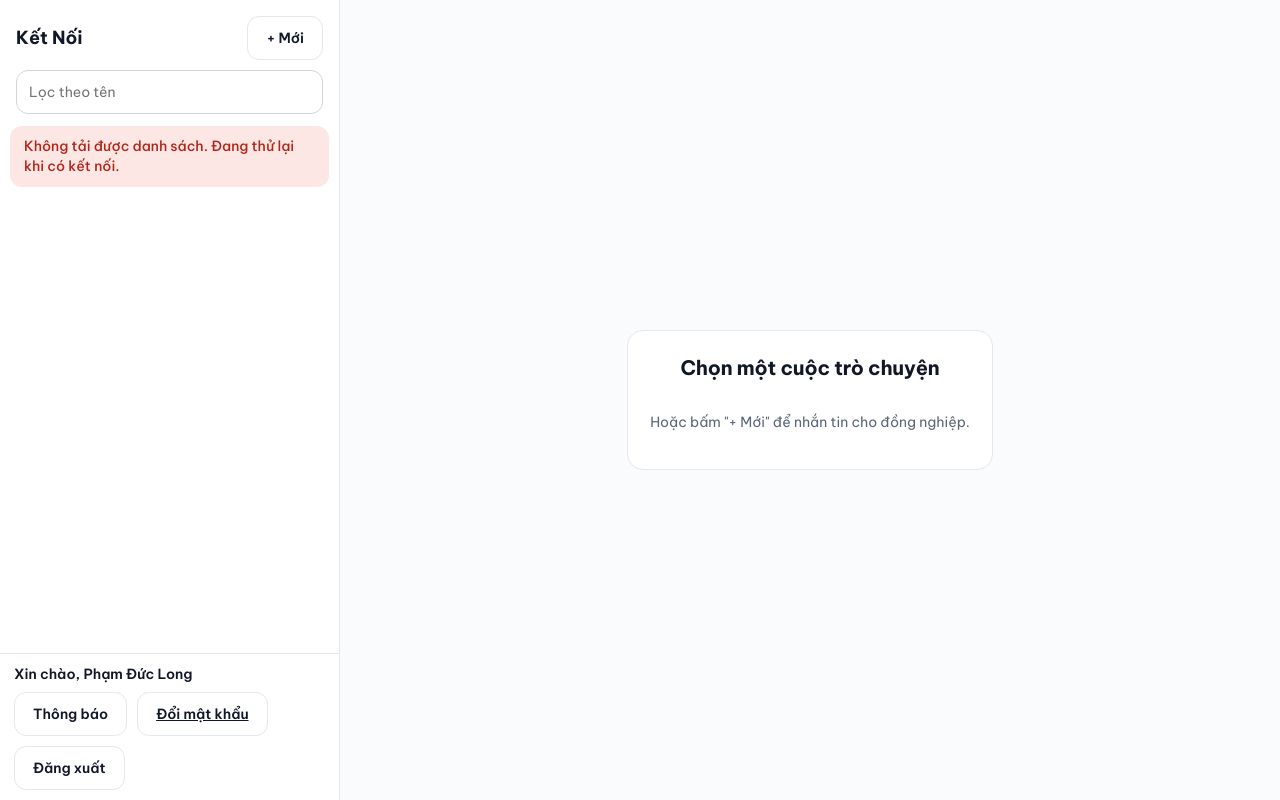
session behaviour › keeps the session and shows an alert when logout cannot reach the server
Click the button "Đăng xuất": (69, 768) [14,746,125,790]
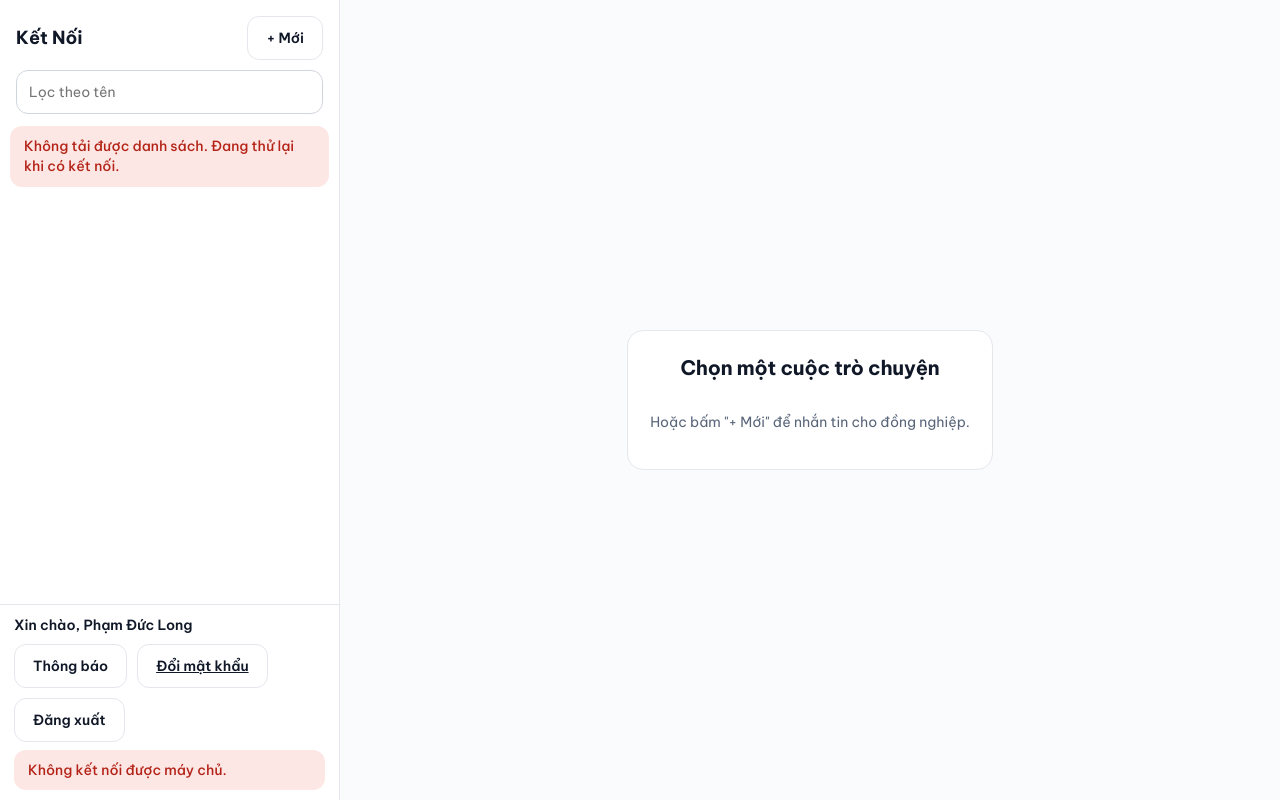
Expected: the text "Xin chào, Phạm Đức Long" is shown, [14,616,192,634]
Expected: the message reads "Không kết nối được máy chủ.", [28,761,227,779]
